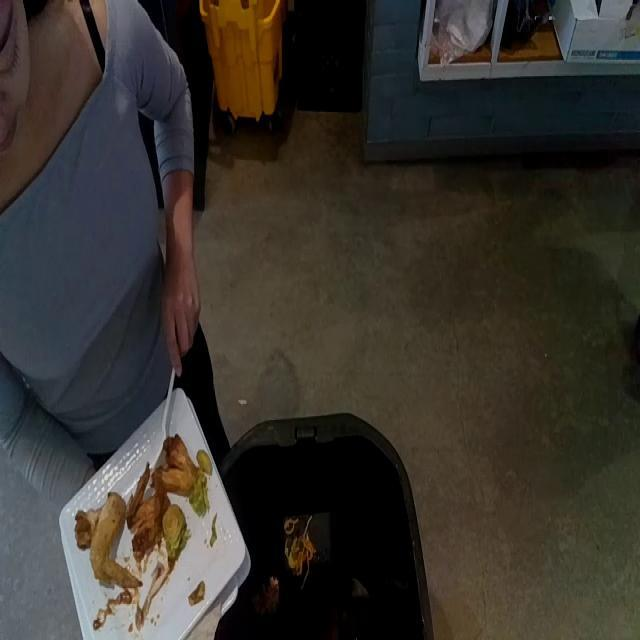Anorganik: (63, 371, 239, 639), (155, 370, 174, 462)
Organik: (74, 417, 212, 597)
